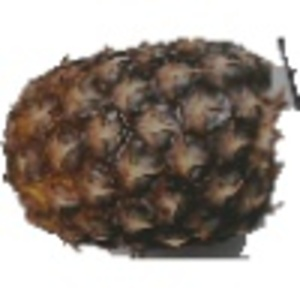abacaxi: (2, 32, 293, 248)
